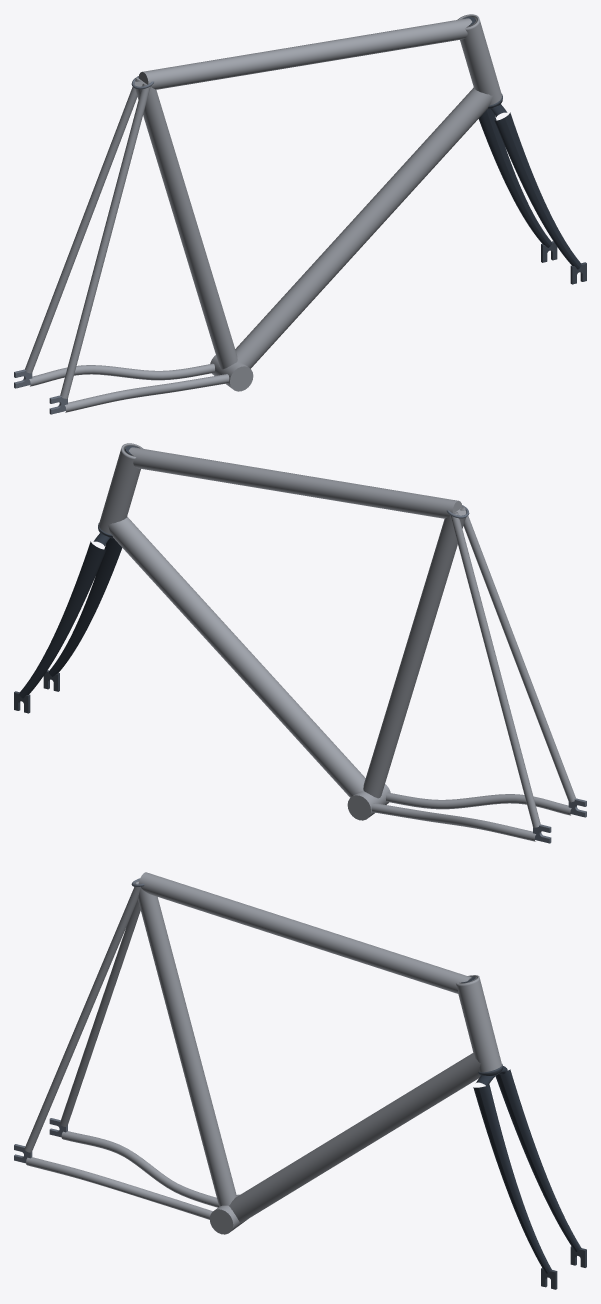
File: cinelli-vigorelli-rainbow-xl.glb
The picture shows the model from 3 angles, top to bottom: view 1: azimuth 30°, elevation 25°; view 2: azimuth 150°, elevation 25°; view 3: azimuth 330°, elevation 25°; orthographic projection.
Parts seen in each view (by area): view 1: paint_down, paint_top, paint_seat, paint_seatstay_1, paint_seatstay_-1, fork_blade_1, fork_blade_-1, paint_head, paint_chainstay_-1, paint_chainstay_1, paint_bottom_bracket; view 2: paint_down, paint_top, paint_seat, paint_seatstay_-1, paint_seatstay_1, fork_blade_-1, fork_blade_1, paint_head, paint_chainstay_1, paint_chainstay_-1, paint_bottom_bracket; view 3: paint_down, paint_top, paint_seat, paint_seatstay_1, fork_blade_1, fork_blade_-1, paint_head, paint_seatstay_-1, paint_chainstay_1, paint_chainstay_-1, paint_bottom_bracket.
Part boxes in pixels (x1,y1,x2,y2): paint_down: (235,87,493,368); paint_top: (138,18,471,89); paint_seat: (134,79,237,369); paint_seatstay_1: (60,83,150,398); paint_seatstay_-1: (25,77,140,373); fork_blade_1: (494,112,581,269); fork_blade_-1: (479,109,551,247); paint_head: (457,14,501,105); paint_chainstay_-1: (29,363,214,386); paint_chainstay_1: (65,374,229,412); paint_bottom_bracket: (210,355,253,391); paint_down: (107,516,365,797); paint_top: (129,447,462,518); paint_seat: (363,508,466,798); paint_seatstay_-1: (450,512,540,827); paint_seatstay_1: (460,506,575,802); fork_blade_-1: (19,541,106,698); fork_blade_1: (49,538,121,676); paint_head: (99,443,143,534); paint_chainstay_1: (386,792,571,815); paint_chainstay_-1: (371,803,535,841); paint_bottom_bracket: (347,784,390,820); paint_down: (229,1053,481,1222); paint_top: (138,872,471,993); paint_seat: (134,881,236,1206); paint_seatstay_1: (24,882,140,1152); fork_blade_1: (473,1084,551,1273); fork_blade_-1: (495,1069,581,1251); paint_head: (456,975,501,1072); paint_seatstay_-1: (60,900,140,1126); paint_chainstay_1: (26,1157,212,1219); paint_chainstay_-1: (61,1131,218,1207); paint_bottom_bracket: (209,1194,247,1234).
Bounding box in the file's own units: 1.05 × 0.62 × 0.14.
